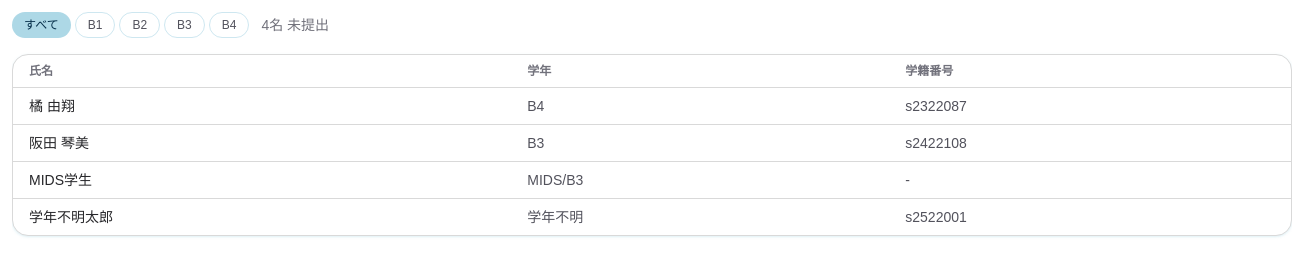
Test: TeacherUnsubmittedView › filters by grade using the API's normalized_grade
The image size is (1292, 255).
Click the button "B3" at (184, 25), box [164,12,205,38]
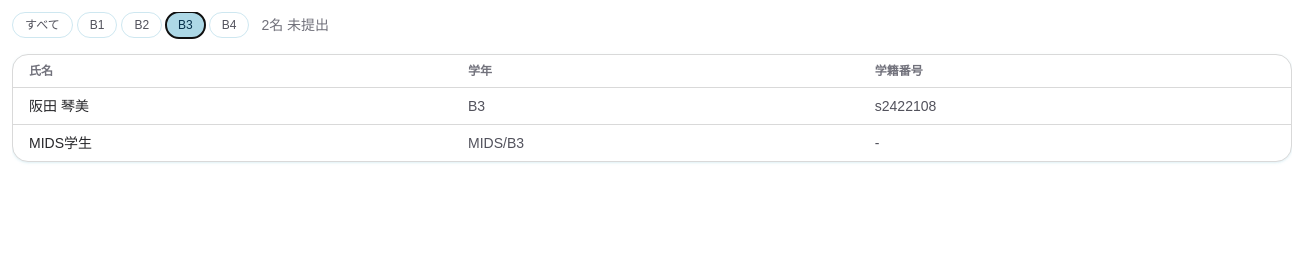
Result: the text "橘 由翔" is gone
Result: the text "学年不明太郎" is gone
Result: the text "2名 未提出" is shown at [261,15,329,35]
